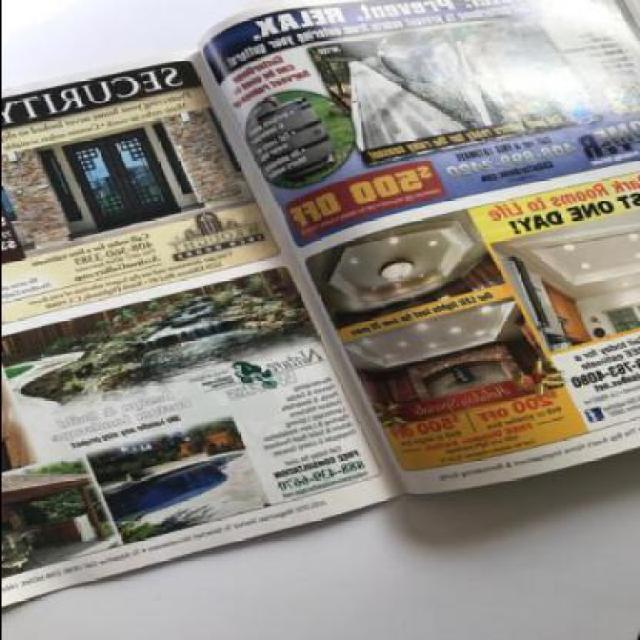paper: (1, 0, 638, 608)
